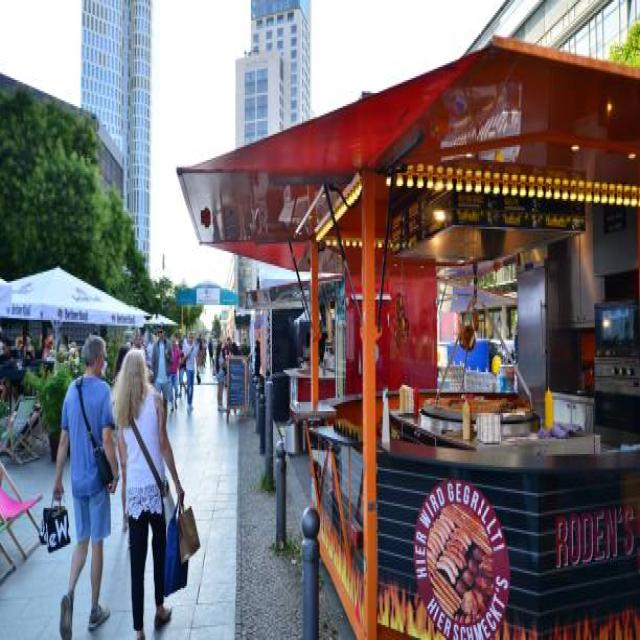Emperan: (174, 26, 640, 640)
